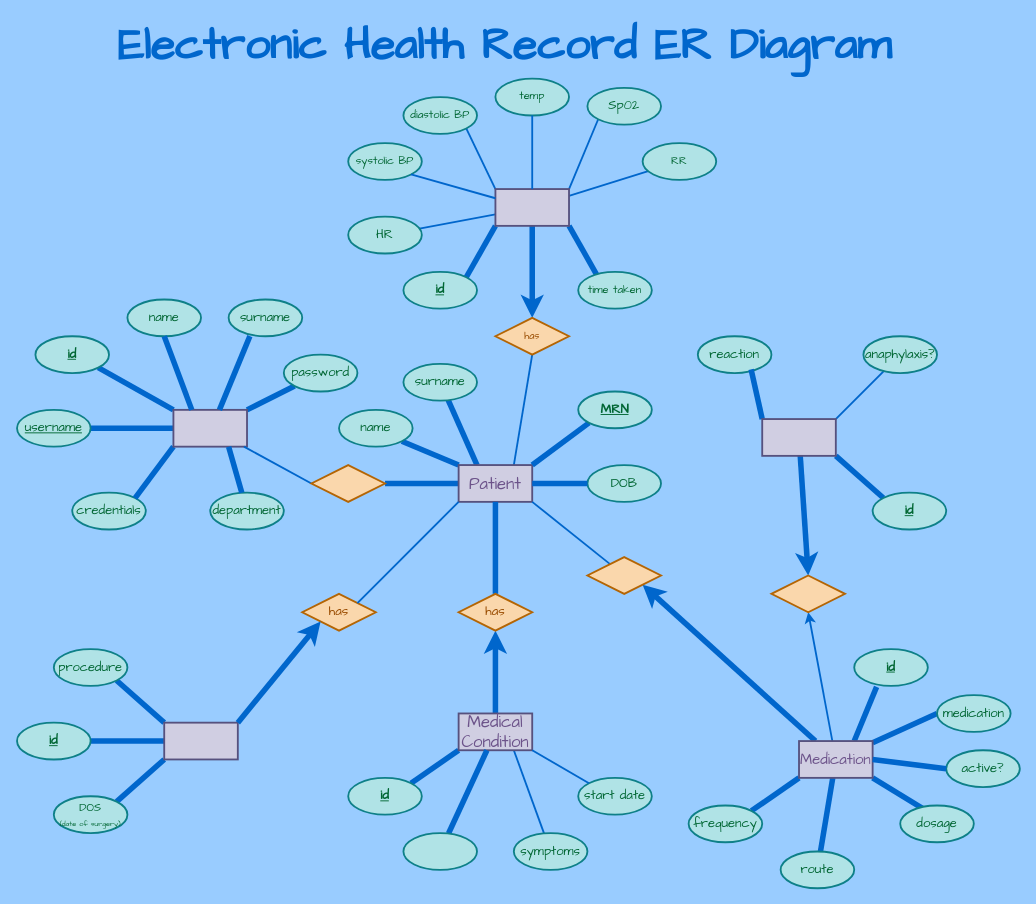
Some shapes in this 1036 by 904 pixel diagram are drawn without their labels. Each missing label, with the centre of its shape:
"Allergy" goes at (x=798, y=437).
"cares for" goes at (x=347, y=483).
"caused by" goes at (x=807, y=593).
"diagnosis" goes at (x=439, y=851).
"Surgery" goes at (x=200, y=740).
"taking" goes at (x=623, y=575).
"User" goes at (x=209, y=427).
"Vital Signs" goes at (x=531, y=207).
